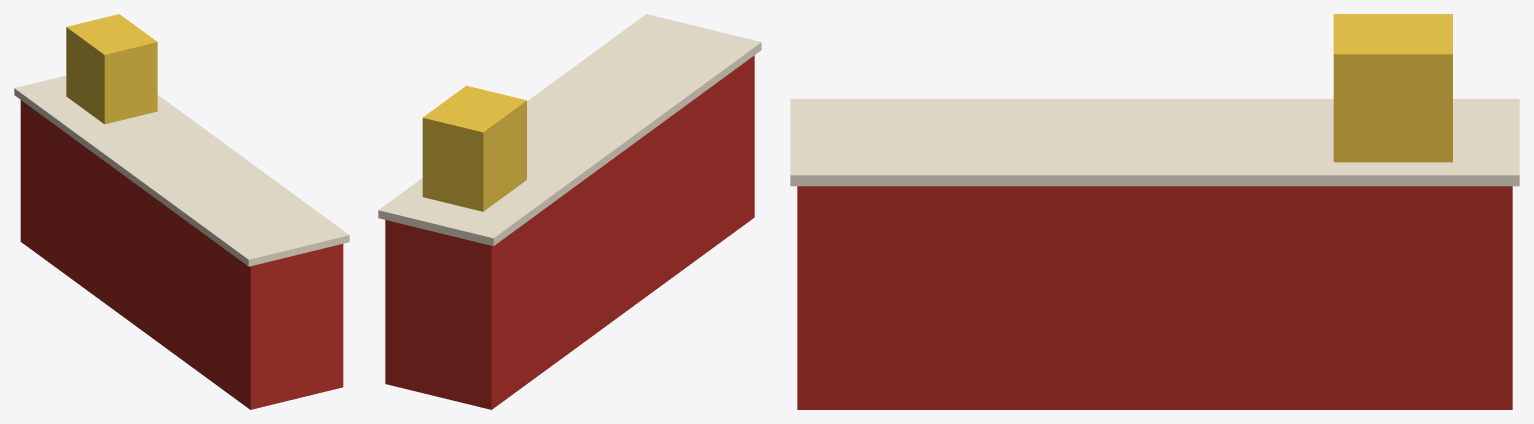
File: snack.glb
3 views of the same model, side by side, from view 1: azimuth 30°, elevation 25°; view 2: azimuth 150°, elevation 25°; view 3: azimuth 270°, elevation 25° (orthographic). The views are drawn at different scales.
Parts seen in each view (by area): view 1: Box1, Box2, Box3; view 2: Box1, Box2, Box3; view 3: Box1, Box2, Box3.
Part boxes in pixels (x1,y1,x2,y2): Box1: (20, 100, 343, 409); Box2: (14, 75, 349, 266); Box3: (66, 14, 157, 124); Box1: (385, 55, 754, 409); Box2: (378, 14, 761, 246); Box3: (422, 85, 526, 211); Box1: (797, 186, 1512, 409); Box2: (790, 99, 1519, 186); Box3: (1333, 14, 1452, 162).
Size of the model in its own units: 0.76 by 1.6 by 3.06.
